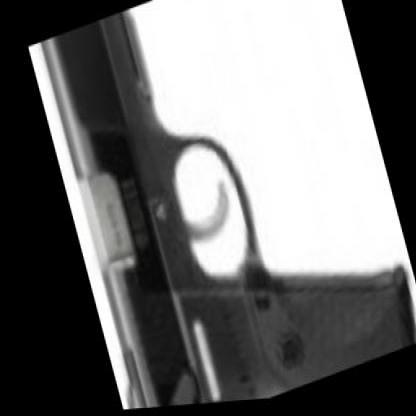pistol: (23, 0, 415, 413)
